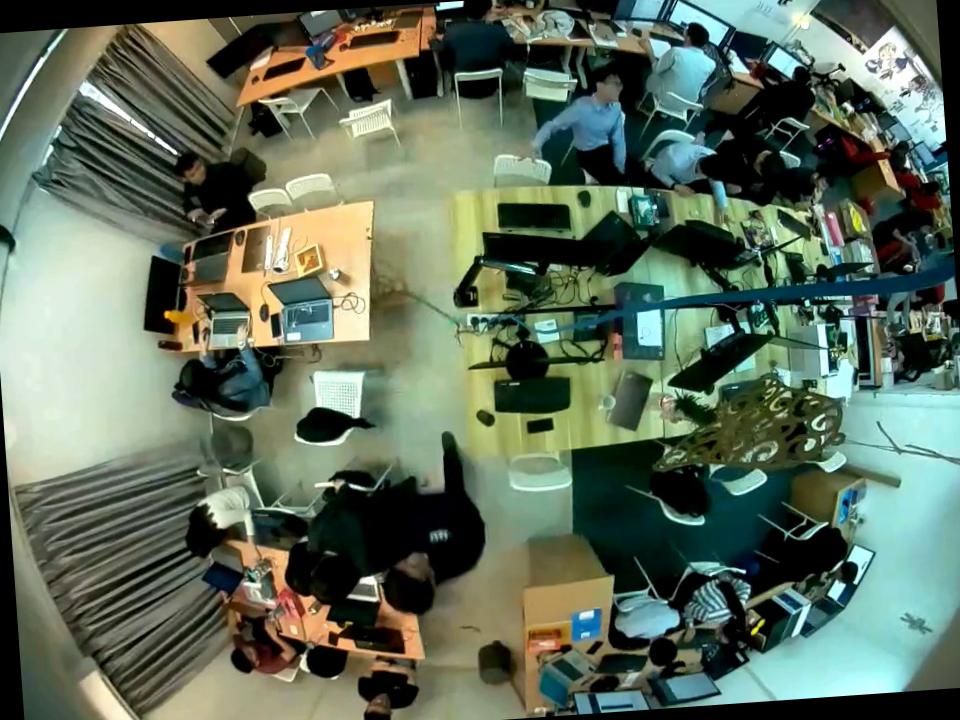employee_tag: (425, 528, 449, 542)
